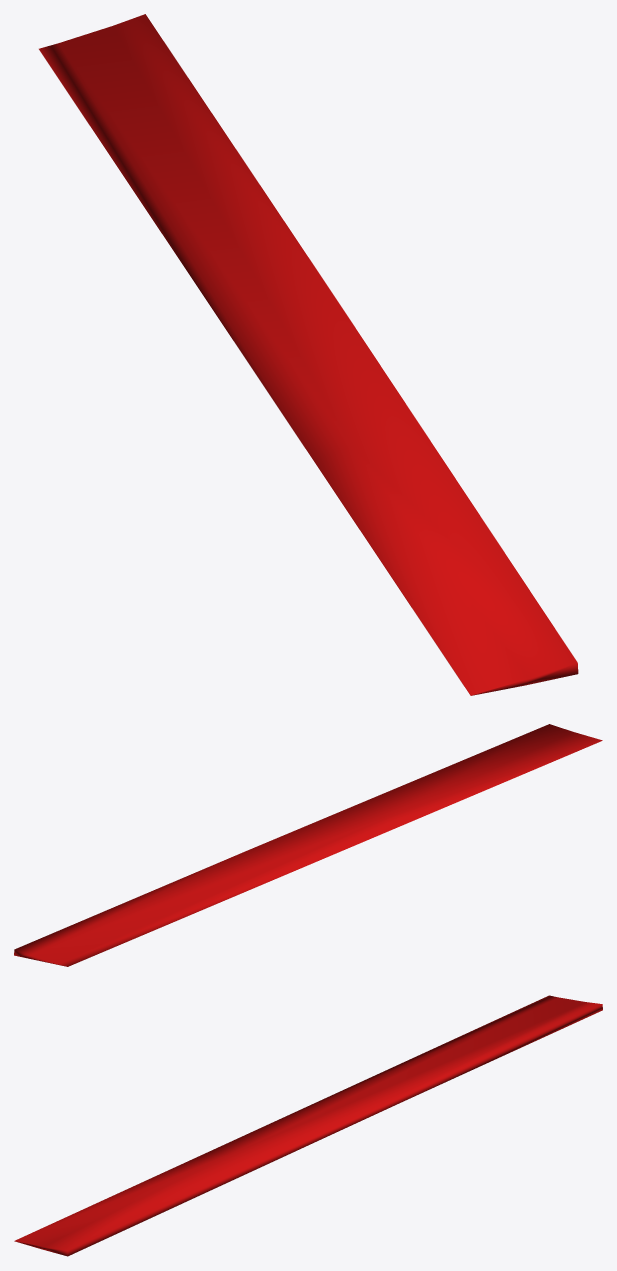
File: right_elevon.dae
3 views of the same model, one above another, from view 1: azimuth 30°, elevation 25°; view 2: azimuth 150°, elevation 25°; view 3: azimuth 330°, elevation 25° (orthographic). The views are drawn at different scales.
Parts seen in each view (by area): view 1: right_elevon; view 2: right_elevon; view 3: right_elevon.
Boxes of the visible parts, box(x1,y1,x2,y2) form: right_elevon: box(39, 14, 578, 695); right_elevon: box(14, 724, 602, 966); right_elevon: box(14, 995, 602, 1256).
Size of the model in its own units: 0.2226 by 0.6788 by 0.0162.
